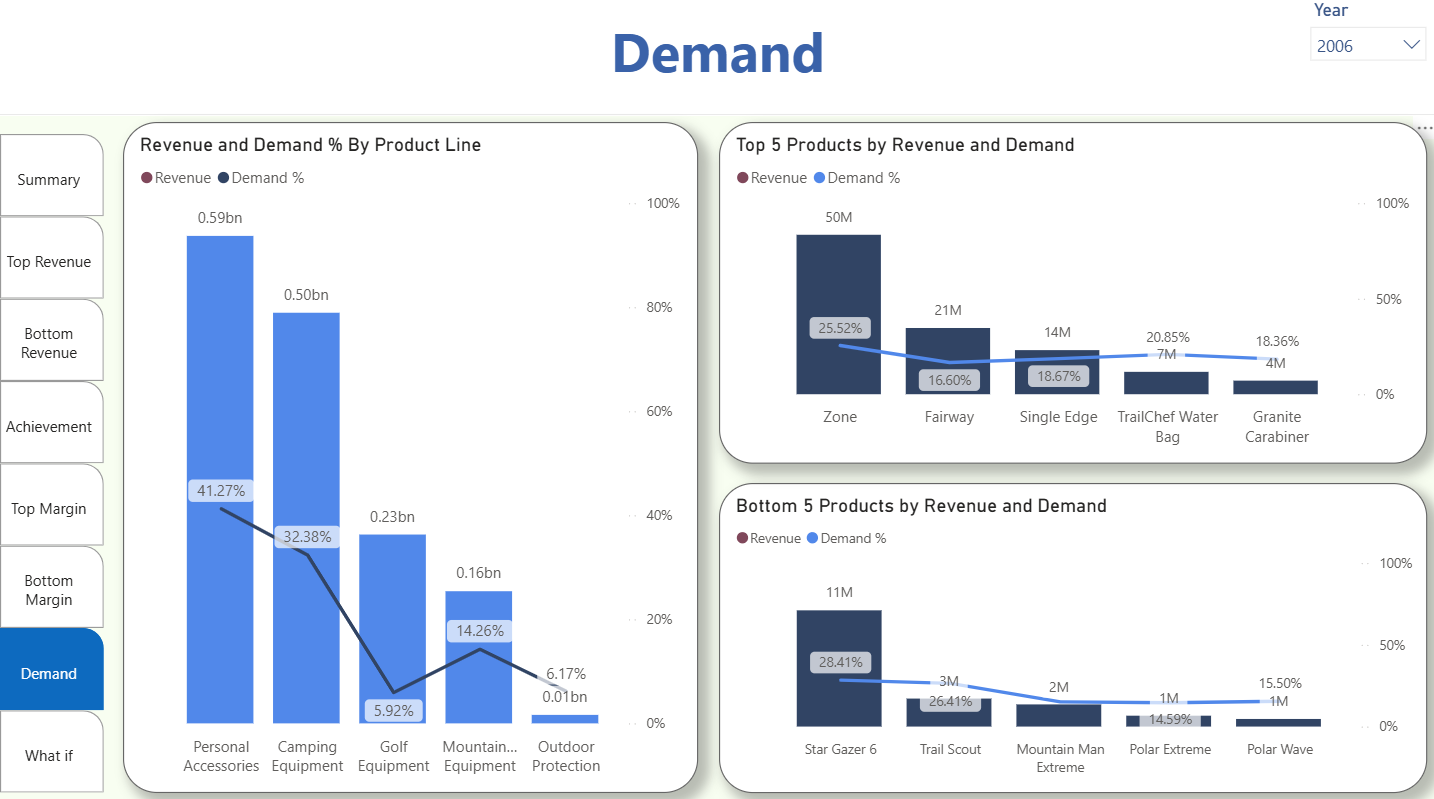

Layout of this report page (visuals, bound fields, positions):
{"tool":"powerbi","page":{"name":"Demand","canvas":[1280,720],"ordinal":6},"visuals":[{"type":"shape","box":[0,0,1279.6,108.5],"z":0},{"type":"slicer","fields":{"Values":["Marketing Sales.Date.Variation.Date Hierarchy.Year"]},"box":[1156.6,0,123,143.5],"z":1000},{"type":"textbox","box":[267.7,13.3,746.5,82],"z":2000},{"type":"lineClusteredColumnComboChart","title":"Revenue and Demand % By Product Line","fields":{"Y":["Sum(Marketing Sales.Revenue)"],"Category":["Marketing Sales.Product line"],"Y2":["Marketing Sales.Popularity %"]},"box":[113.4,114.6,510.2,594.6],"z":3000},{"type":"lineClusteredColumnComboChart","title":"Bottom 5 Products by Revenue and Demand","fields":{"Category":["Marketing Sales.Product"],"Y":["Sum(Marketing Sales.Revenue)"],"Y2":["Marketing Sales.Popularity %"]},"box":[641.6,434.2,628.3,275],"z":4000},{"type":"lineClusteredColumnComboChart","title":"Top 5 Products by Revenue and Demand","fields":{"Category":["Marketing Sales.Product"],"Y":["Sum(Marketing Sales.Revenue)"],"Y2":["Marketing Sales.Popularity %"]},"box":[641.6,114.6,628.3,302.7],"z":5000},{"type":"pageNavigator","box":[4.1,125,92,587.8],"z":6000}]}

Visuals, with their boxes in screenshot pixels (x1, y1, x2, y2), scaled from the page's 1280x720 canvas onto the 1434x799 screenshot:
shape: select_region(0, 0, 1433, 120)
slicer - Marketing Sales.Date.Variation.Date Hierarchy.Year: select_region(1296, 0, 1433, 159)
textbox: select_region(300, 15, 1136, 106)
"Revenue and Demand % By Product Line" lineClusteredColumnComboChart: select_region(127, 127, 699, 787)
"Bottom 5 Products by Revenue and Demand" lineClusteredColumnComboChart: select_region(719, 482, 1423, 787)
"Top 5 Products by Revenue and Demand" lineClusteredColumnComboChart: select_region(719, 127, 1423, 463)
pageNavigator: select_region(5, 139, 108, 791)
